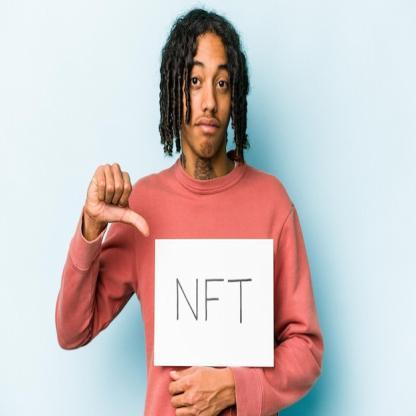thumb_down: (82, 153, 150, 237)
